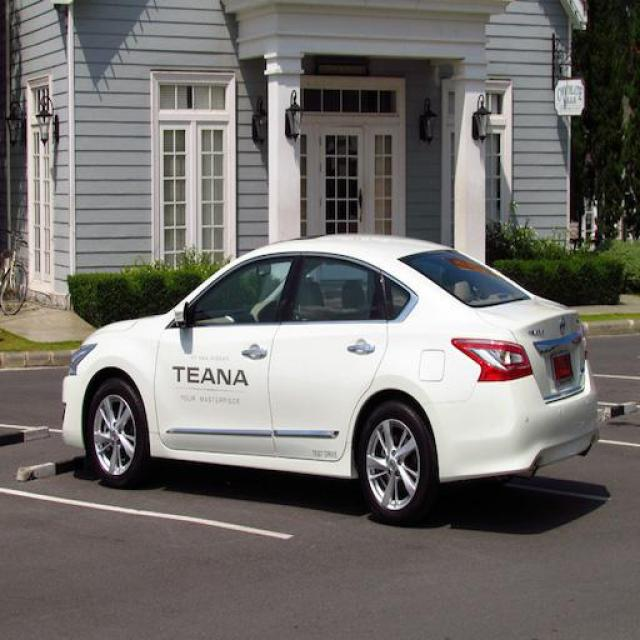back_bumper: (422, 360, 599, 482)
back_glass: (399, 249, 530, 307)
back_left_door: (266, 250, 388, 462)
back_left_light: (452, 337, 534, 382)
front_left_door: (153, 252, 300, 457)
front_left_light: (63, 343, 99, 378)
left_mirror: (173, 302, 190, 327)
tailgate: (476, 299, 588, 403)
wheel: (357, 403, 430, 519), (85, 373, 143, 481)
